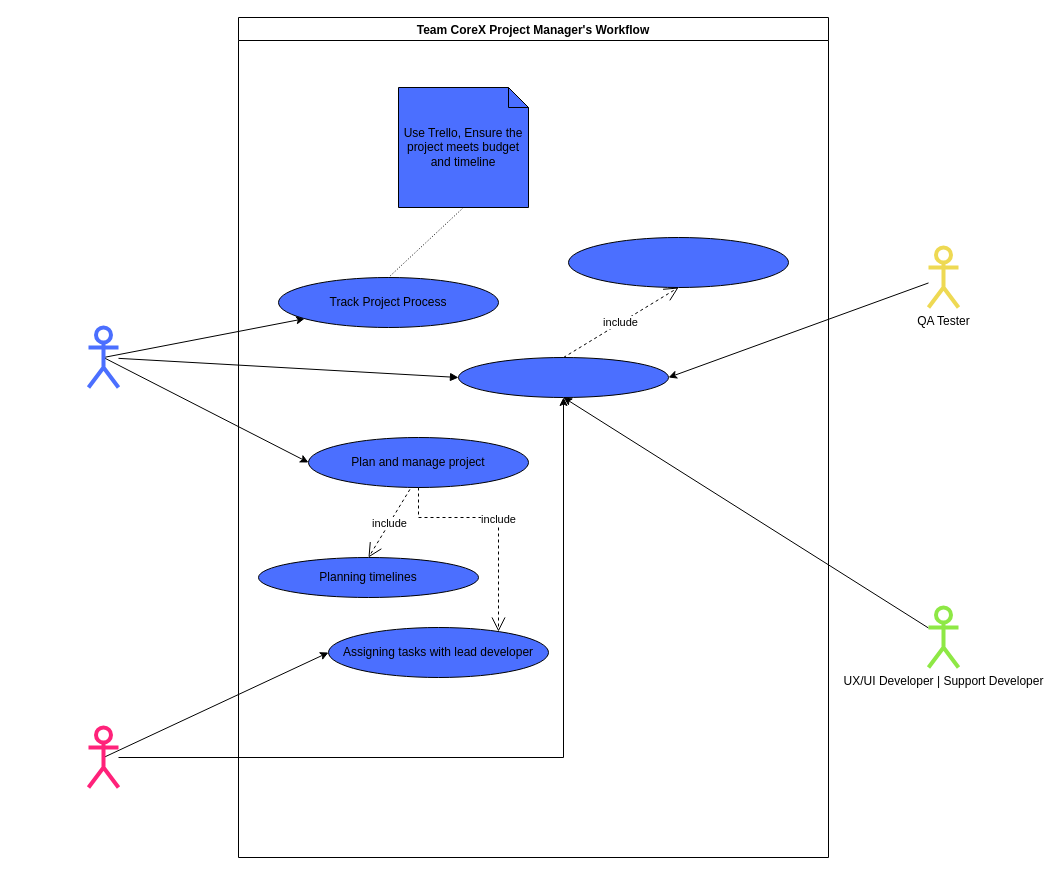
This 1060x875 diagram has some shape labels left out. Each missing label, with the centre of its shape:
"Encourage all team member to participate" goes at point 678,262.
"Hold Scrum Meeting" goes at point 563,377.
"Lead Developer | UI/UX Support" goes at point 103,757.
"Project Manager" goes at point 103,357.
